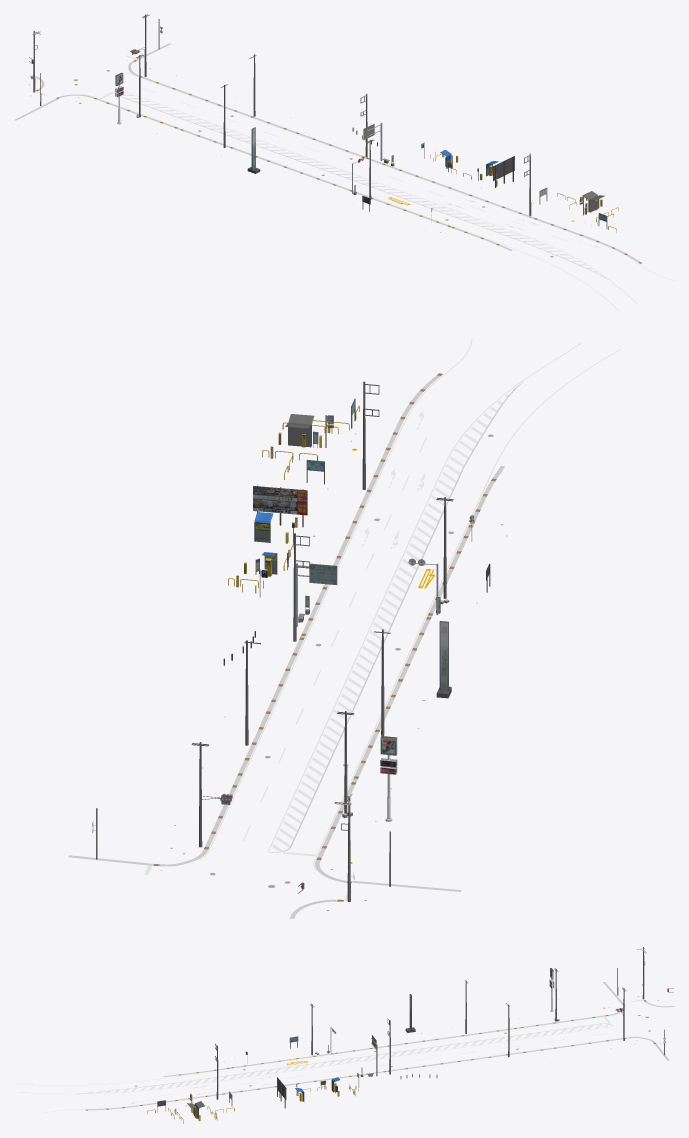
Rendered from frn--4.glb.
3 renders of one model, top to bottom at view 1: azimuth 30°, elevation 25°; view 2: azimuth 150°, elevation 25°; view 3: azimuth 270°, elevation 25°, orthographic. The views are drawn at different scales.
Size of the model in its own units: 75.13 by 13 by 144.
3 materials, 1 textured.
